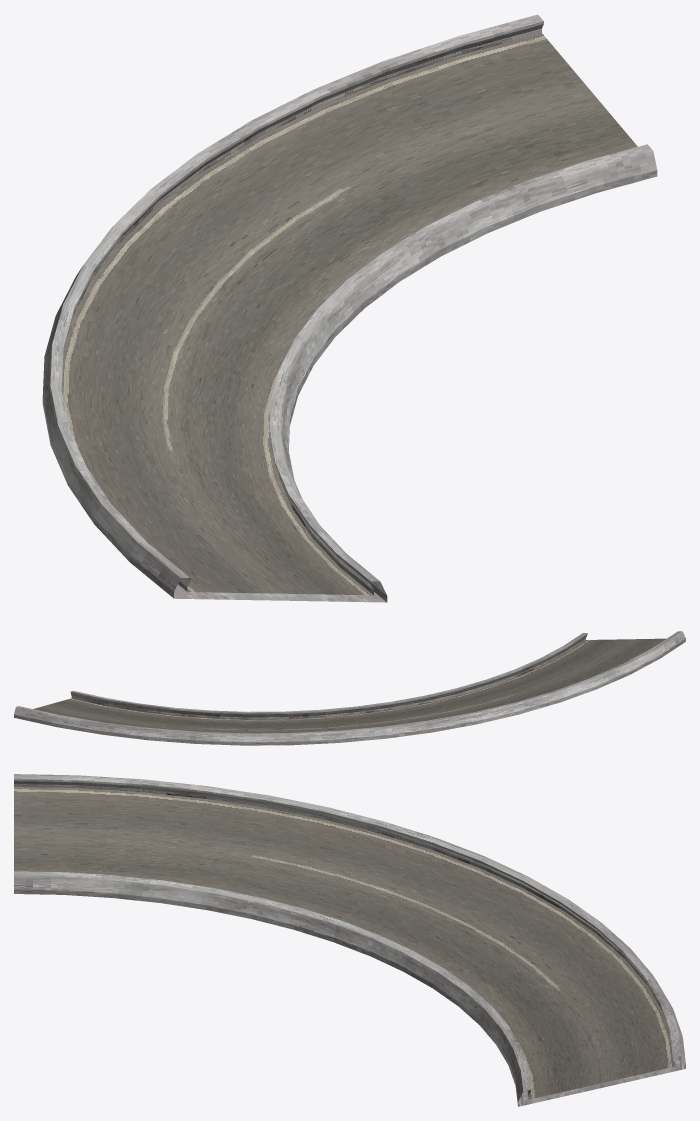
The model's file is road-Turn-HalfBankedRight-HalfBankedRight-Even-Right-Size4.glb.
3 renders of one model, top to bottom at view 1: azimuth 30°, elevation 25°; view 2: azimuth 150°, elevation 25°; view 3: azimuth 270°, elevation 25°, orthographic. The views are drawn at different scales.
Visible parts, largest first — view 1: road-Turn-HalfBankedRight-HalfBankedRight-Even-Right-Size4; view 2: road-Turn-HalfBankedRight-HalfBankedRight-Even-Right-Size4; view 3: road-Turn-HalfBankedRight-HalfBankedRight-Even-Right-Size4.
Part boxes in pixels (x1,y1,x2,y2): road-Turn-HalfBankedRight-HalfBankedRight-Even-Right-Size4: (42, 14, 657, 602); road-Turn-HalfBankedRight-HalfBankedRight-Even-Right-Size4: (14, 631, 685, 745); road-Turn-HalfBankedRight-HalfBankedRight-Even-Right-Size4: (14, 774, 685, 1106).
Size of the model in its own units: 4 by 0.3359 by 4.
Materials: 2 (2 with a texture image).
